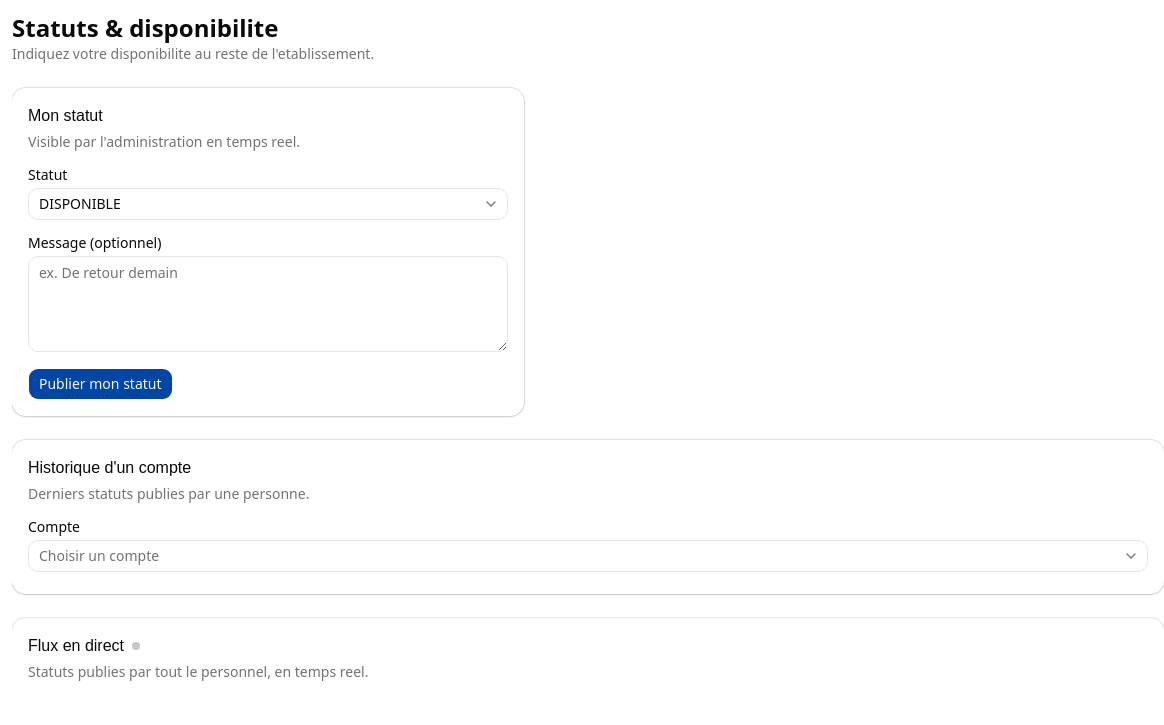
Scenario: StatusPage › role Administrateur : charge l'historique du compte selectionne
Click the dropdown with id "historyUser": (99, 556) top-left (28, 540), bottom-right (1148, 572)
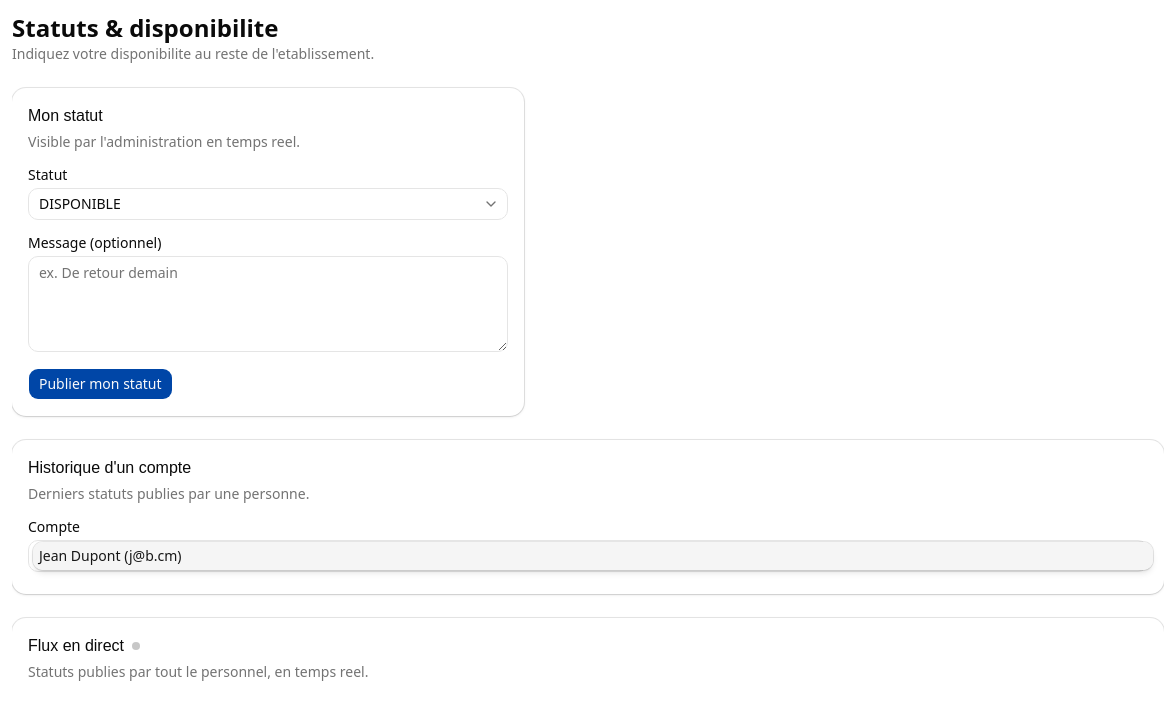
Click the option "Jean Dupont (j@b.cm)": (80, 556) top-left (33, 542), bottom-right (1153, 570)
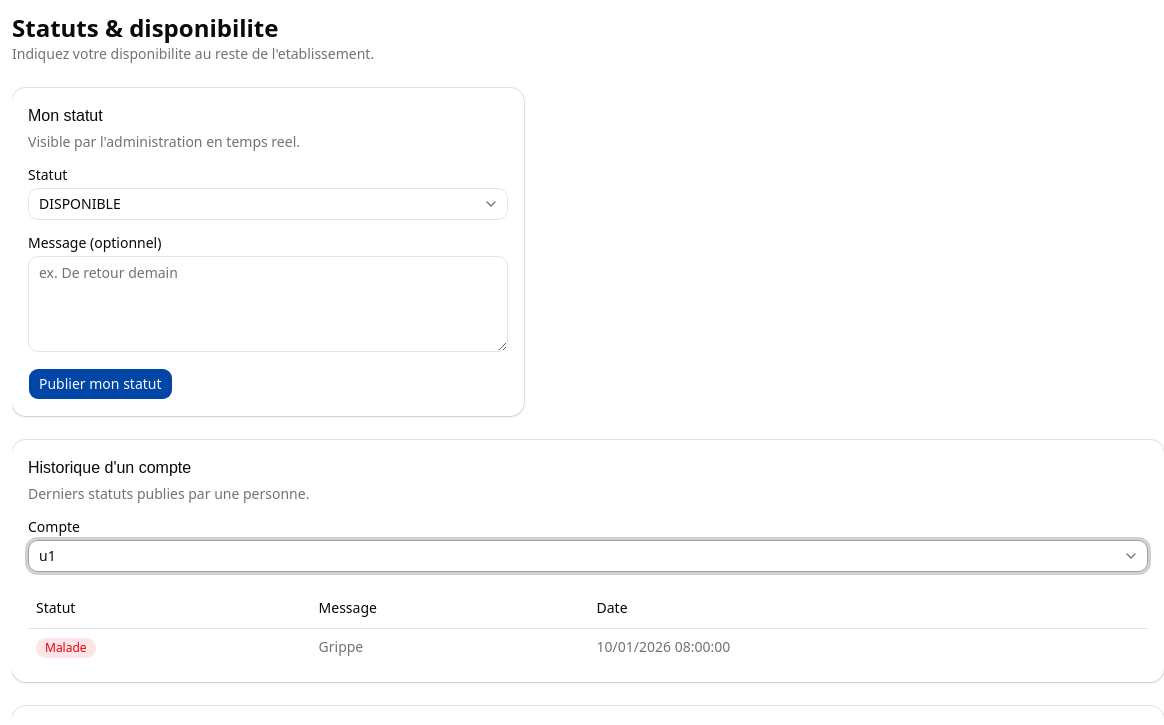
Expected: the text "Grippe" is shown, top-left (310, 628), bottom-right (588, 666)
Expected: the icon "Malade" is shown, top-left (36, 638), bottom-right (96, 658)
